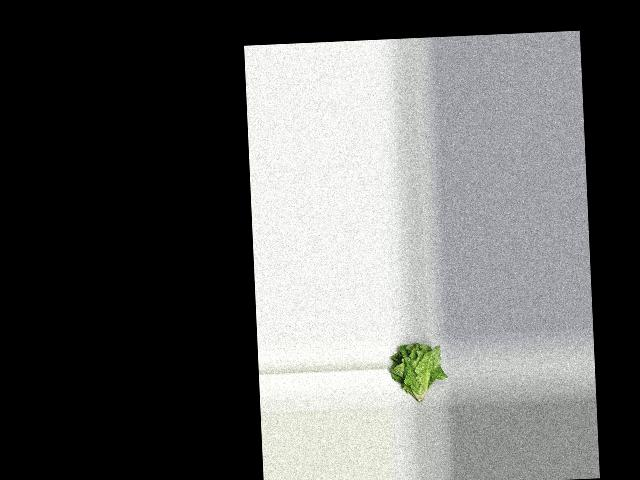lettuce: (388, 338, 443, 406)
